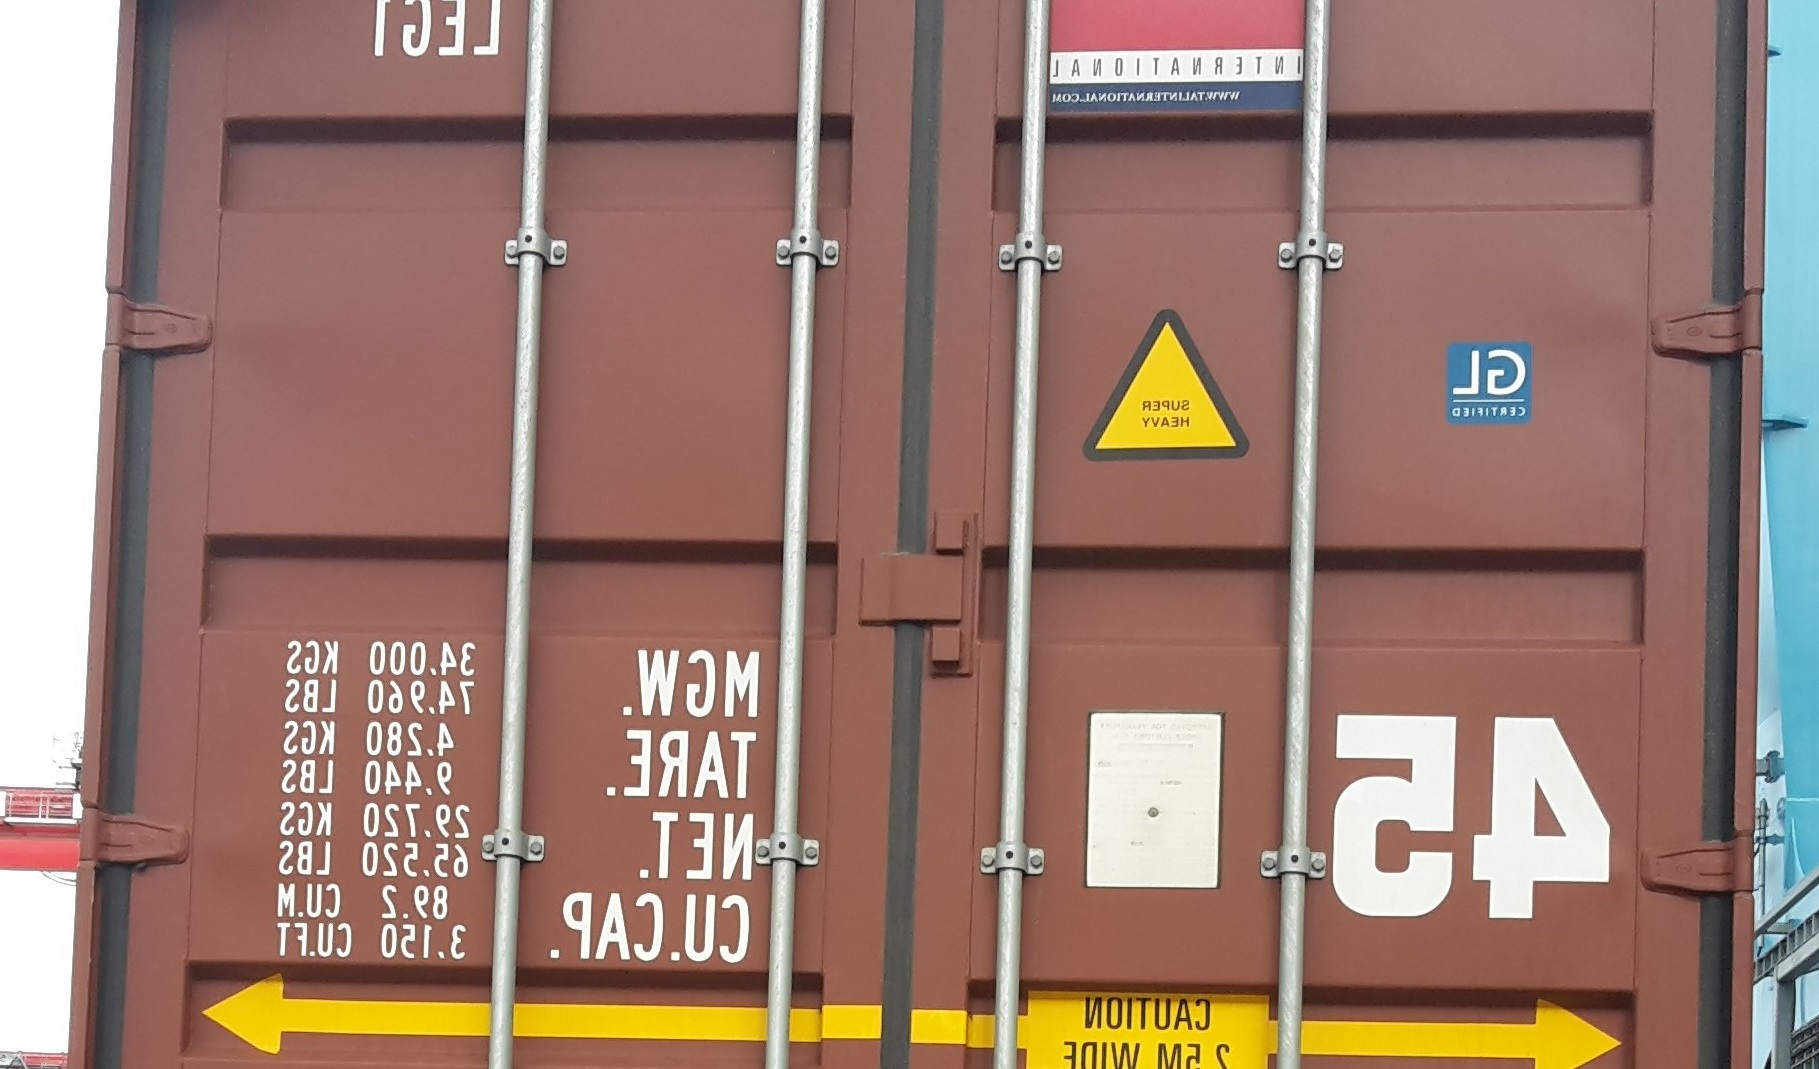container_door: (53, 6, 1750, 1069)
